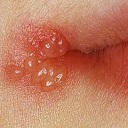Cold Sore: (22, 34, 70, 87)
